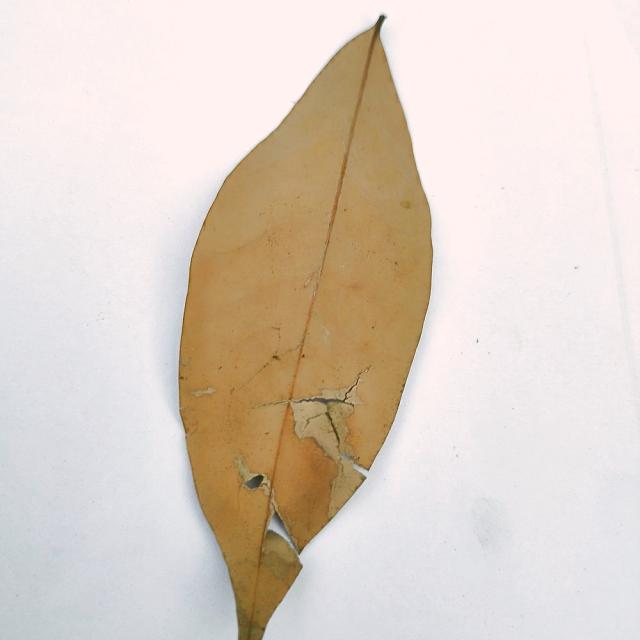Dry_Leaf-Lychee: (179, 17, 435, 639)
